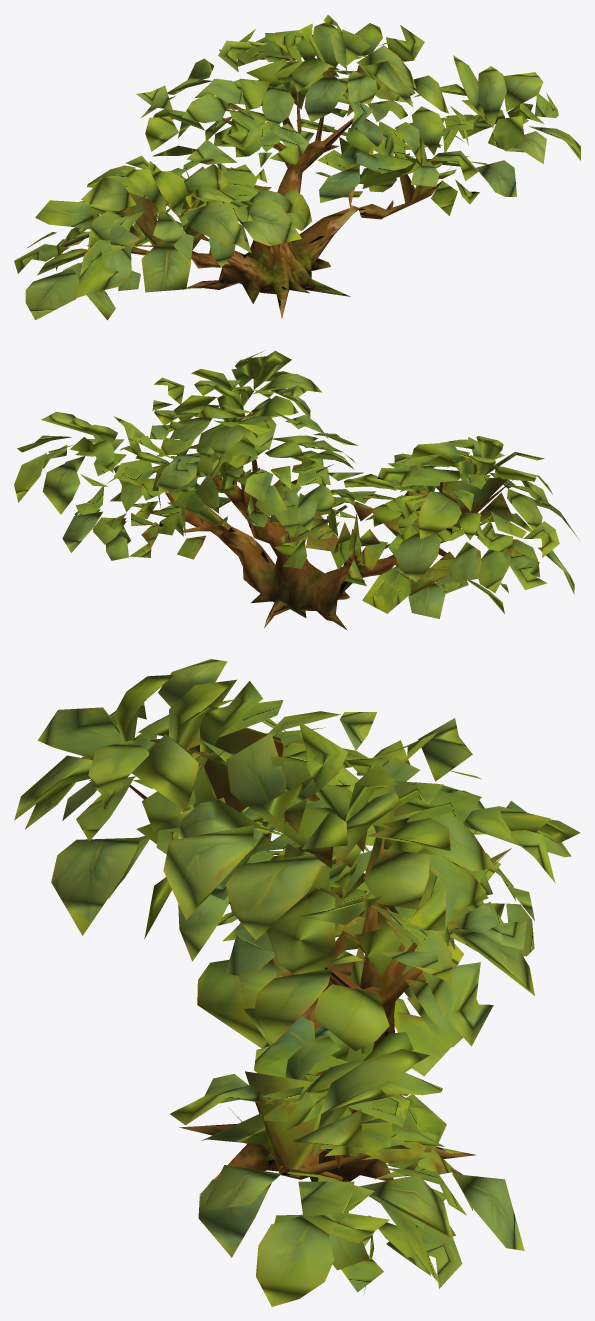
File: shrub-dense.glb
3 views of the same model, one above another, from view 1: azimuth 30°, elevation 25°; view 2: azimuth 150°, elevation 25°; view 3: azimuth 270°, elevation 25° (orthographic). The views are drawn at different scales.
Parts seen in each view (by area): view 1: geometry_0; view 2: geometry_0; view 3: geometry_0.
Boxes of the visible parts, x1,y1,x2,y2 form: geometry_0: (14,15,580,320); geometry_0: (14,350,579,630); geometry_0: (14,659,580,1306).
Size of the model in its own units: 0.9653 by 0.4189 by 0.4487.
1 material, 1 textured.
